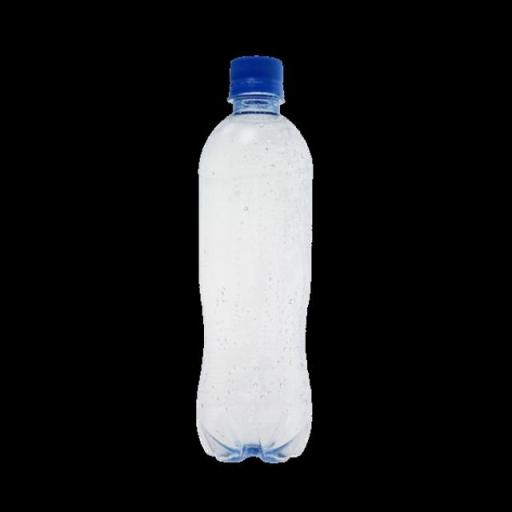plastic: (197, 52, 317, 470)
